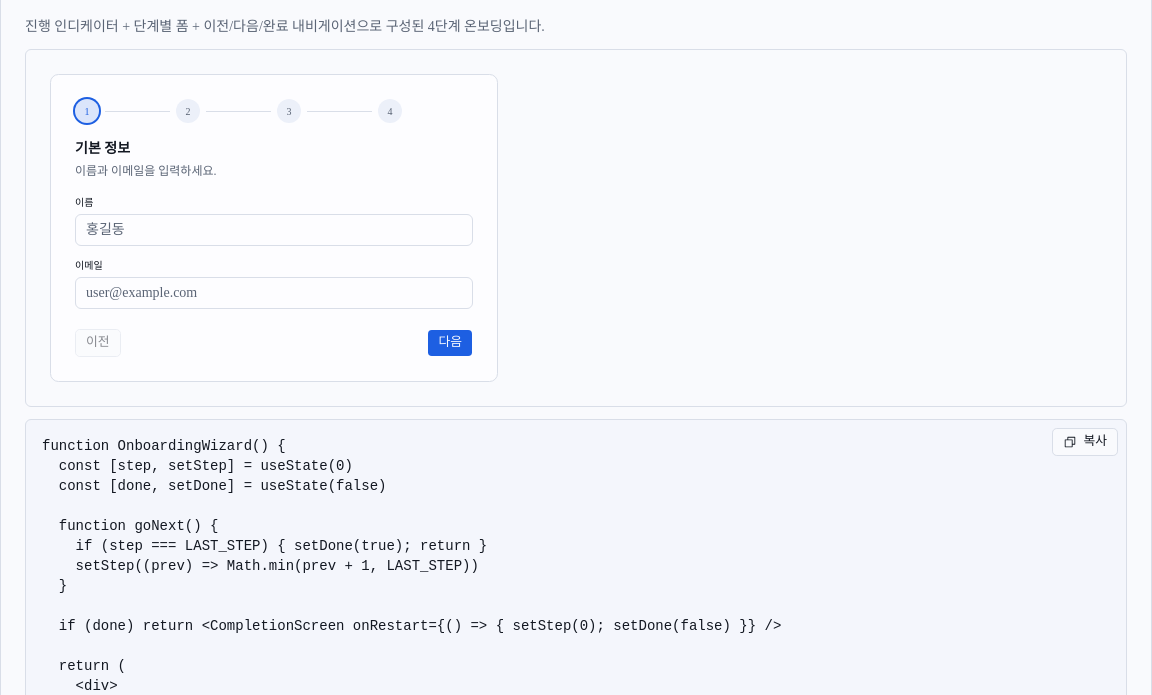
Test: StepperPatternsPage › walks the onboarding wizard forward and back through its steps
(page scrolled)
Expected: the text "기본 정보" is shown, x1=75 y1=141 x2=130 y2=156
Click the button "다음". click: (450, 343)
box: x1=428 y1=329 x2=473 y2=357
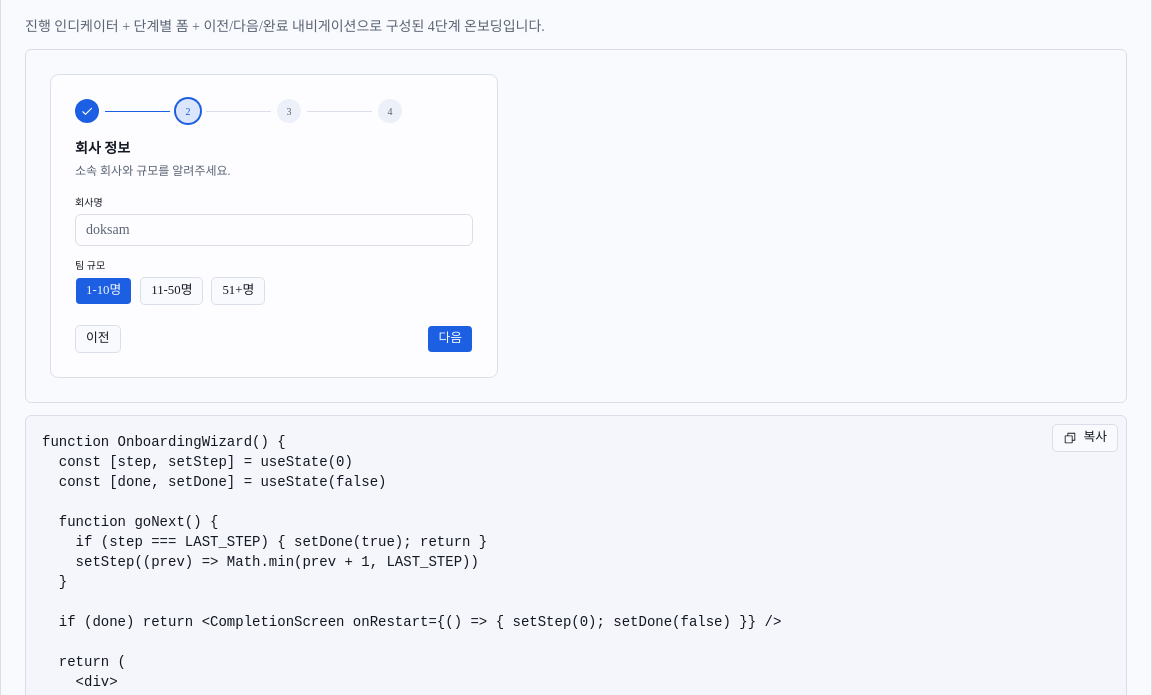
Expected: the text "소속 회사와 규모를 알려주세요." is shown, x1=75 y1=164 x2=230 y2=178
Click the button "이전". click: (98, 339)
box: x1=75 y1=325 x2=120 y2=353
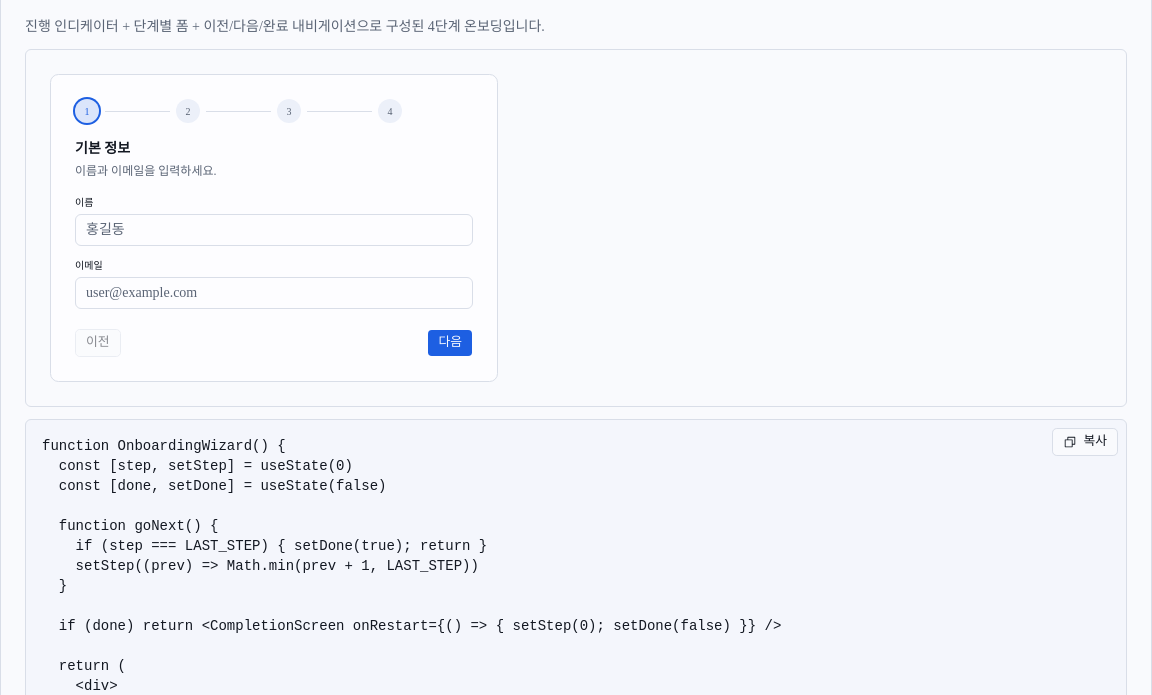
Expected: the text "이름과 이메일을 입력하세요." is shown, x1=75 y1=164 x2=216 y2=178
